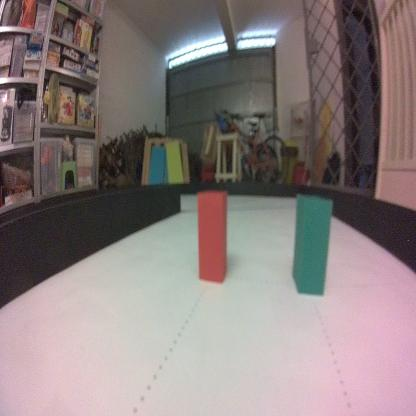green: (289, 191, 332, 297)
red: (195, 190, 228, 286)
